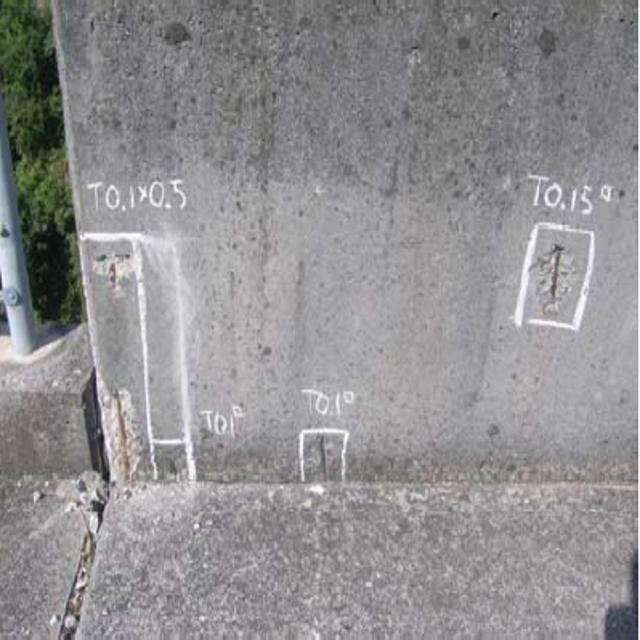spalling: (517, 230, 593, 327), (96, 380, 156, 483), (294, 426, 359, 493), (93, 247, 150, 296)
